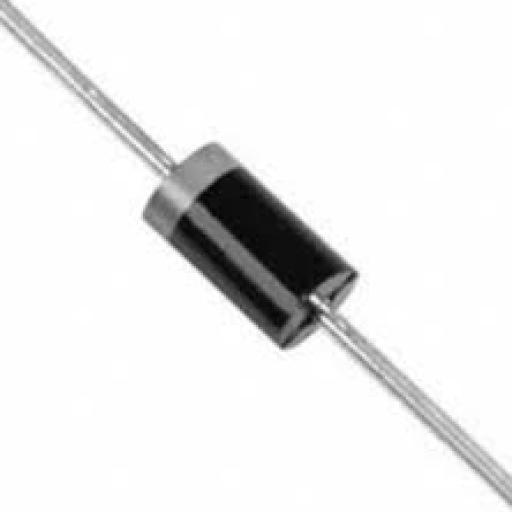DIODE: (0, 0, 510, 510)
